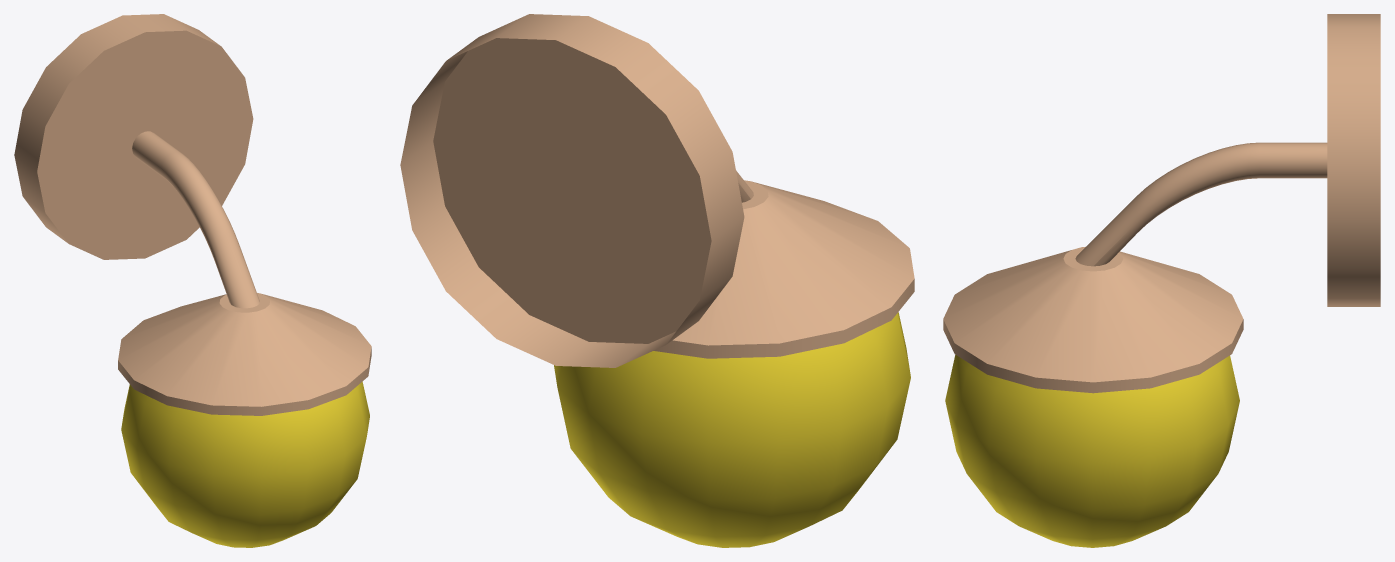
File: wall_lamp.glb
The picture shows the model from 3 angles, left to right: view 1: azimuth 30°, elevation 25°; view 2: azimuth 150°, elevation 25°; view 3: azimuth 270°, elevation 25°; orthographic projection. The views are drawn at different scales.
Visible parts, largest first — view 1: wall_lamp; view 2: wall_lamp; view 3: wall_lamp.
Boxes of the visible parts, <box> form: wall_lamp: <box>14,14,371,547</box>; wall_lamp: <box>400,14,914,547</box>; wall_lamp: <box>943,14,1380,547</box>.
Size of the model in its own units: 0.6945 by 1.29 by 1.01.
